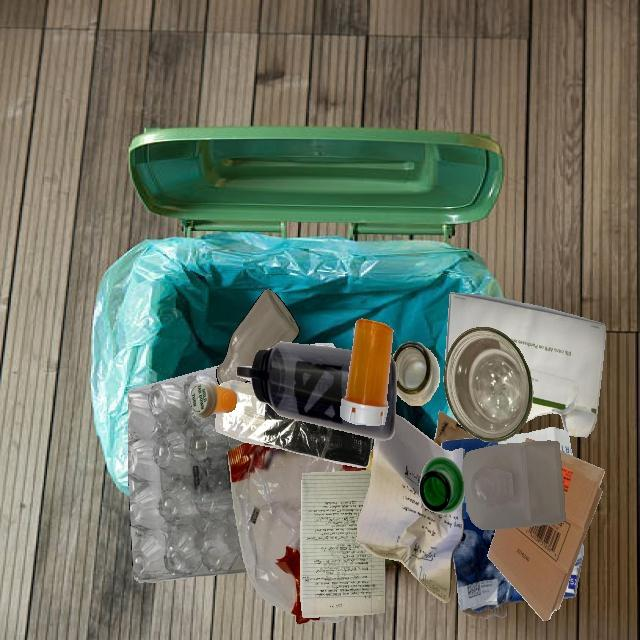biowaste: (366, 446, 374, 470)
cardboard: (487, 450, 605, 621), (487, 438, 581, 556), (453, 491, 525, 619), (441, 427, 572, 457), (432, 410, 476, 448), (563, 553, 583, 599)
glass: (443, 326, 533, 442), (216, 289, 299, 385), (392, 341, 440, 406), (419, 457, 465, 514)
paper: (444, 292, 606, 437), (357, 414, 465, 603), (300, 470, 385, 618)
plastic: (227, 442, 366, 625), (128, 365, 221, 582), (236, 341, 397, 440), (221, 348, 335, 481), (215, 380, 373, 468), (151, 481, 247, 582), (462, 441, 565, 530), (340, 319, 393, 426), (190, 380, 237, 418)
